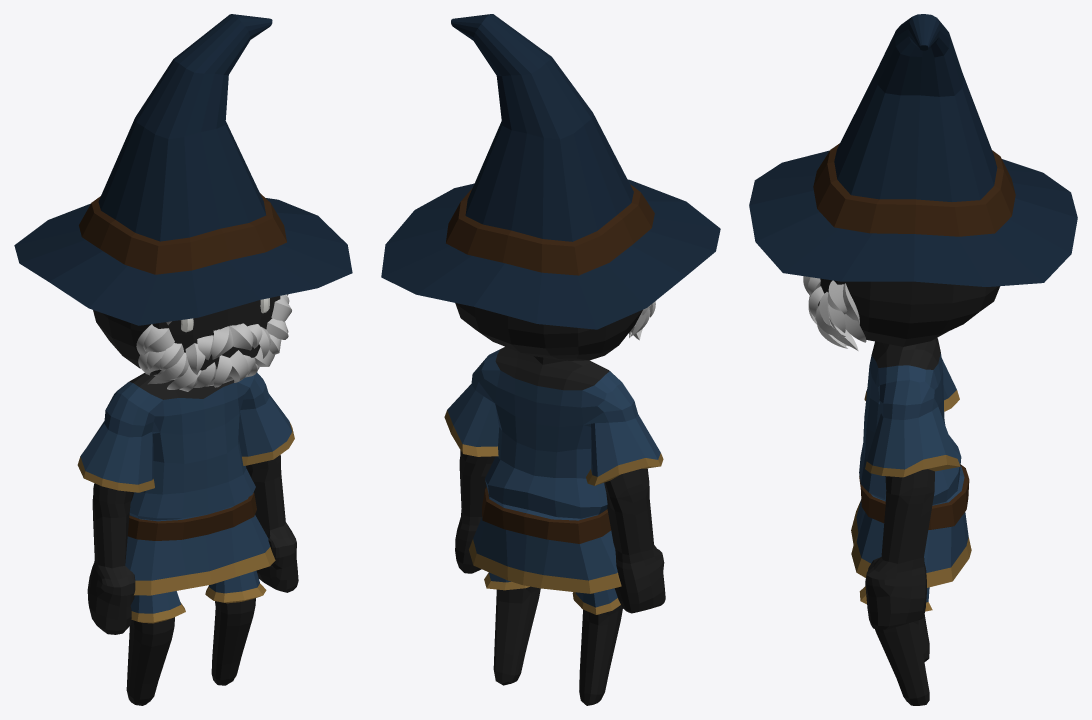
The model's file is Wizard.gltf.
3 renders of one model, left to right at view 1: azimuth 30°, elevation 25°; view 2: azimuth 150°, elevation 25°; view 3: azimuth 270°, elevation 25°, orthographic. The views are drawn at different scales.
Parts seen in each view (by area): view 1: Body_Cube.004; view 2: Body_Cube.004; view 3: Body_Cube.004.
Part boxes in pixels (x1,y1,x2,y2): Body_Cube.004: (14, 14, 352, 705); Body_Cube.004: (381, 14, 720, 705); Body_Cube.004: (749, 14, 1077, 705).
Bounding box in the file's own units: 1.73 × 4.06 × 1.73.
